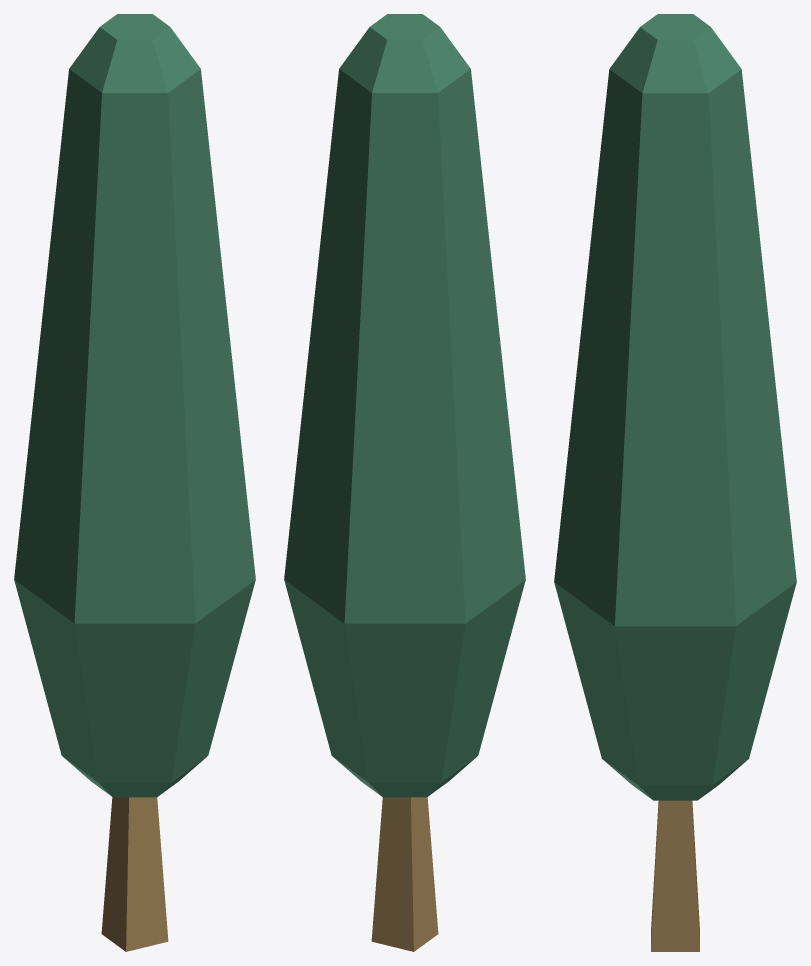
Rendered from naturePack_150.obj.
3 views of the same model, side by side, from view 1: azimuth 30°, elevation 25°; view 2: azimuth 150°, elevation 25°; view 3: azimuth 270°, elevation 25° (orthographic).
Parts seen in each view (by area): view 1: Mesh1_Group1_Model.066; view 2: Mesh1_Group1_Model.066; view 3: Mesh1_Group1_Model.066.
Boxes of the visible parts, box(x1,y1,x2,y2) form: Mesh1_Group1_Model.066: box(14, 14, 255, 951); Mesh1_Group1_Model.066: box(284, 14, 525, 951); Mesh1_Group1_Model.066: box(554, 14, 796, 951).
Bounding box in the file's own units: 1.72 × 8.25 × 1.98.
